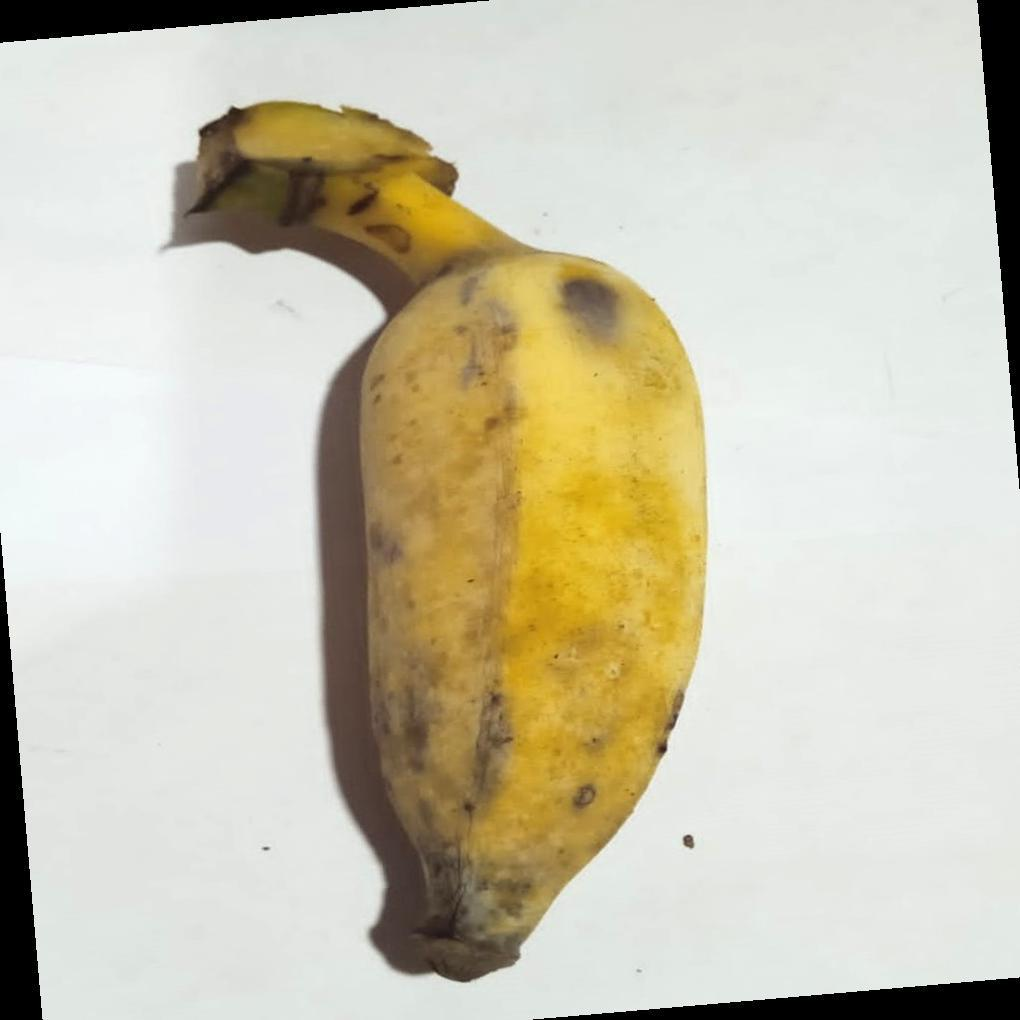Banana Ripe: (191, 73, 749, 961)
